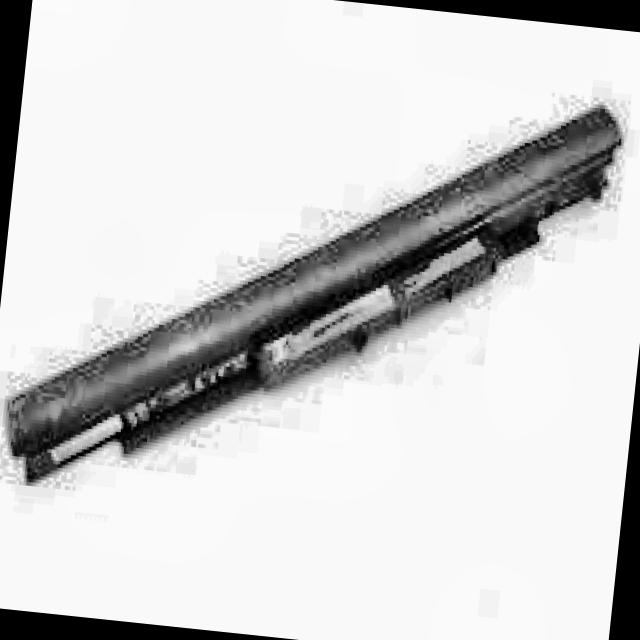Battery: (1, 50, 624, 543)
